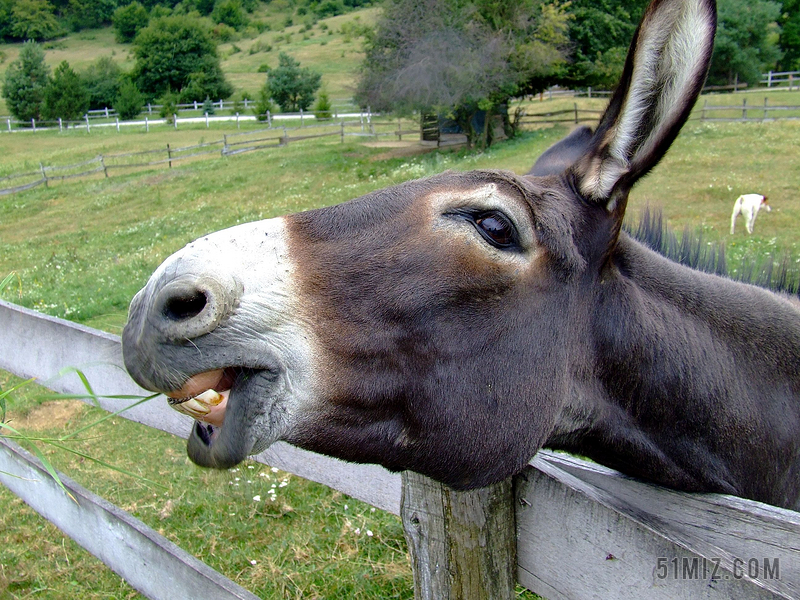background: (107, 18, 799, 537)
